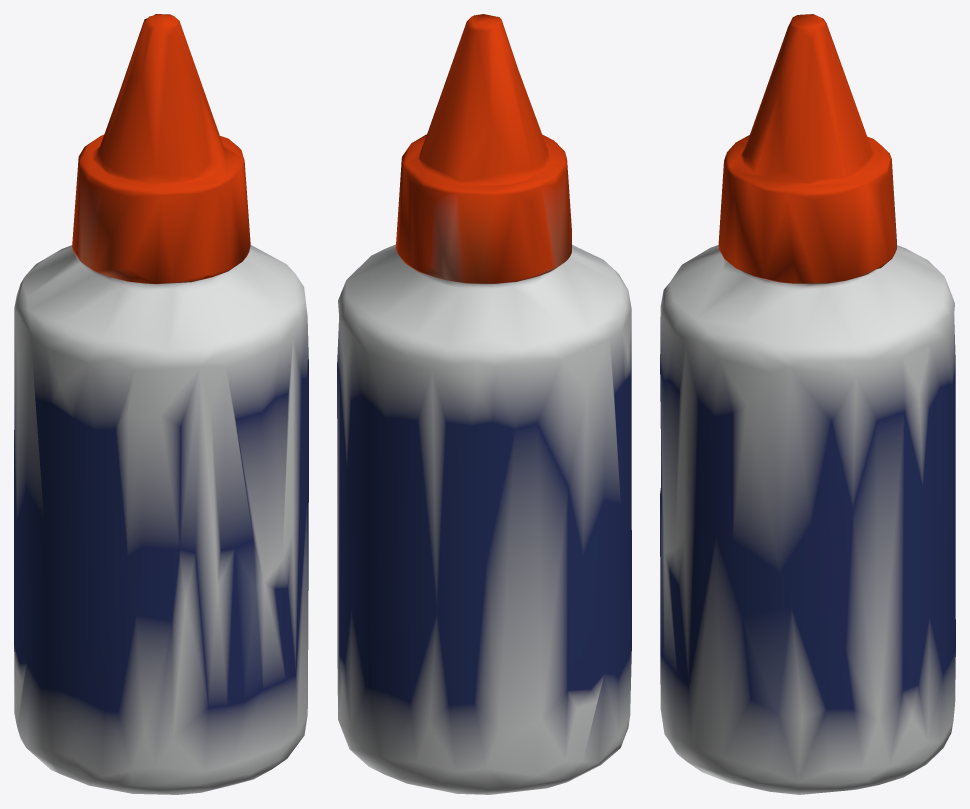
Rendered from gen3d-glue-lod1.glb.
The picture shows the model from 3 angles, left to right: view 1: azimuth 30°, elevation 25°; view 2: azimuth 150°, elevation 25°; view 3: azimuth 270°, elevation 25°; orthographic projection.
Visible parts, largest first — view 1: part_0; view 2: part_0; view 3: part_0.
Boxes of the visible parts, bbox=[...] form: part_0: bbox=[14, 14, 308, 794]; part_0: bbox=[337, 14, 631, 794]; part_0: bbox=[660, 14, 955, 794].
Size of the model in its own units: 0.3688 by 0.9996 by 0.3694.
